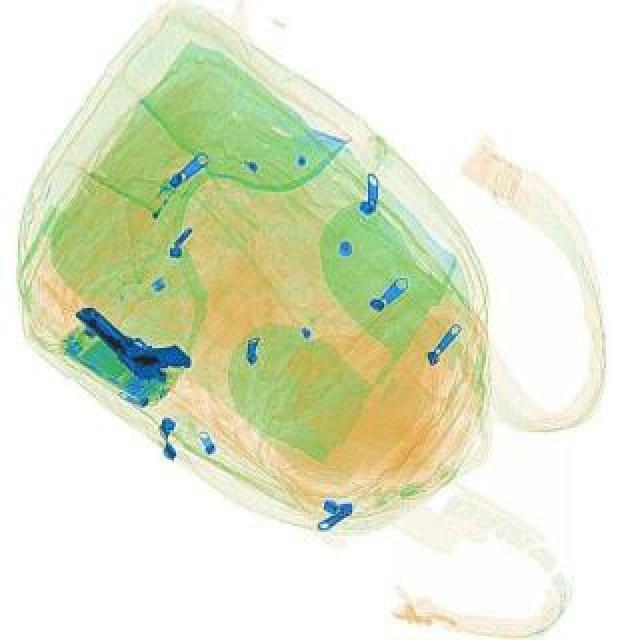gun: (66, 282, 196, 396)
